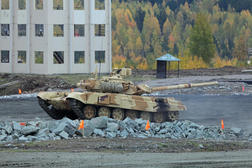t72: (41, 75, 216, 118)
